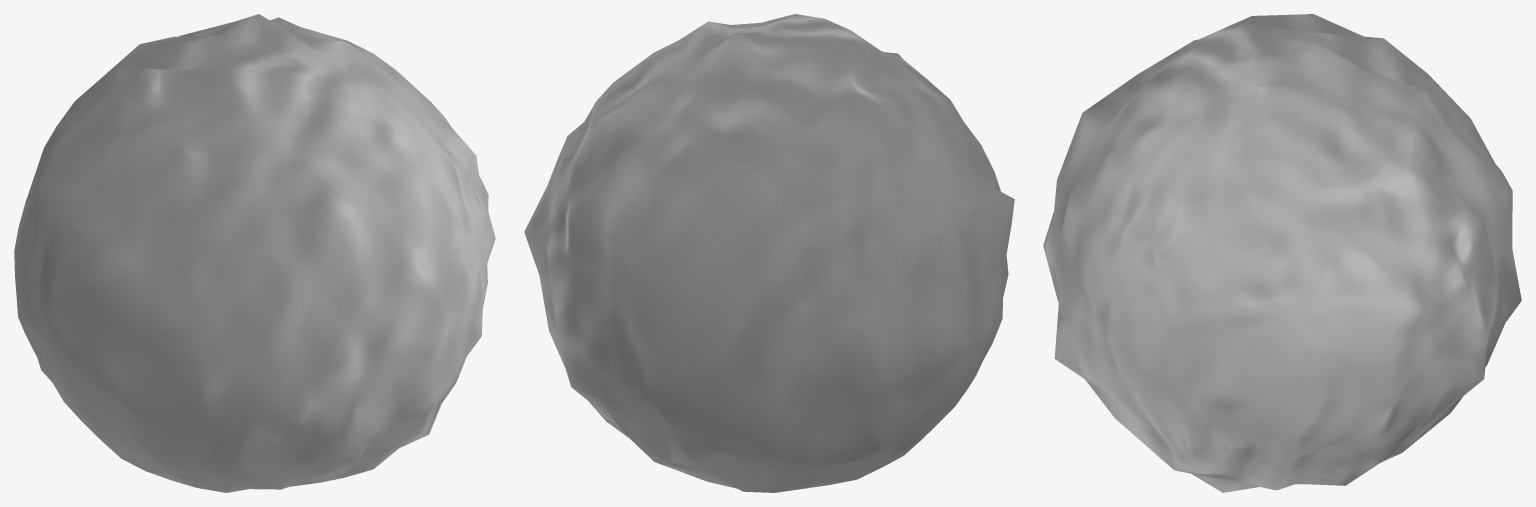
Rendered from leukocyte_1.glb.
3 renders of one model, left to right at view 1: azimuth 30°, elevation 25°; view 2: azimuth 150°, elevation 25°; view 3: azimuth 270°, elevation 25°, orthographic. The views are drawn at different scales.
Visible parts, largest first — view 1: redbloodcell1; view 2: redbloodcell1; view 3: redbloodcell1.
Part boxes in pixels (x1=…): redbloodcell1: x1=14, y1=14, x2=495, y2=492; redbloodcell1: x1=524, y1=14, x2=1014, y2=492; redbloodcell1: x1=1043, y1=14, x2=1521, y2=492.
Bounding box in the file's own units: 0.363 × 0.3702 × 0.3739.
1 material, 1 textured.
